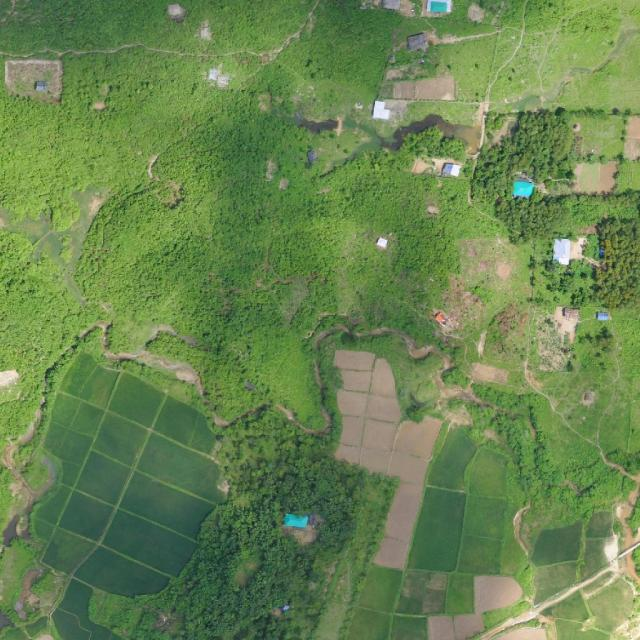agricultural_land: (334, 349, 444, 569), (457, 447, 513, 577), (407, 486, 470, 576), (426, 424, 481, 495), (527, 521, 587, 567), (358, 563, 402, 615), (396, 571, 448, 615), (474, 574, 523, 613), (445, 574, 474, 614), (391, 616, 426, 640), (495, 627, 548, 639)
building: (551, 237, 588, 266), (404, 32, 428, 53), (372, 100, 393, 120), (513, 181, 534, 198), (284, 514, 309, 528), (441, 162, 461, 176), (596, 311, 611, 321)
